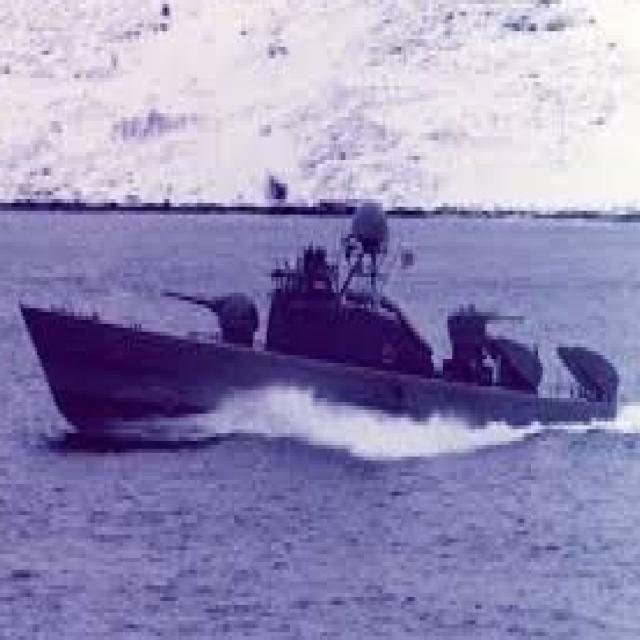houseboat: (20, 178, 620, 462)
